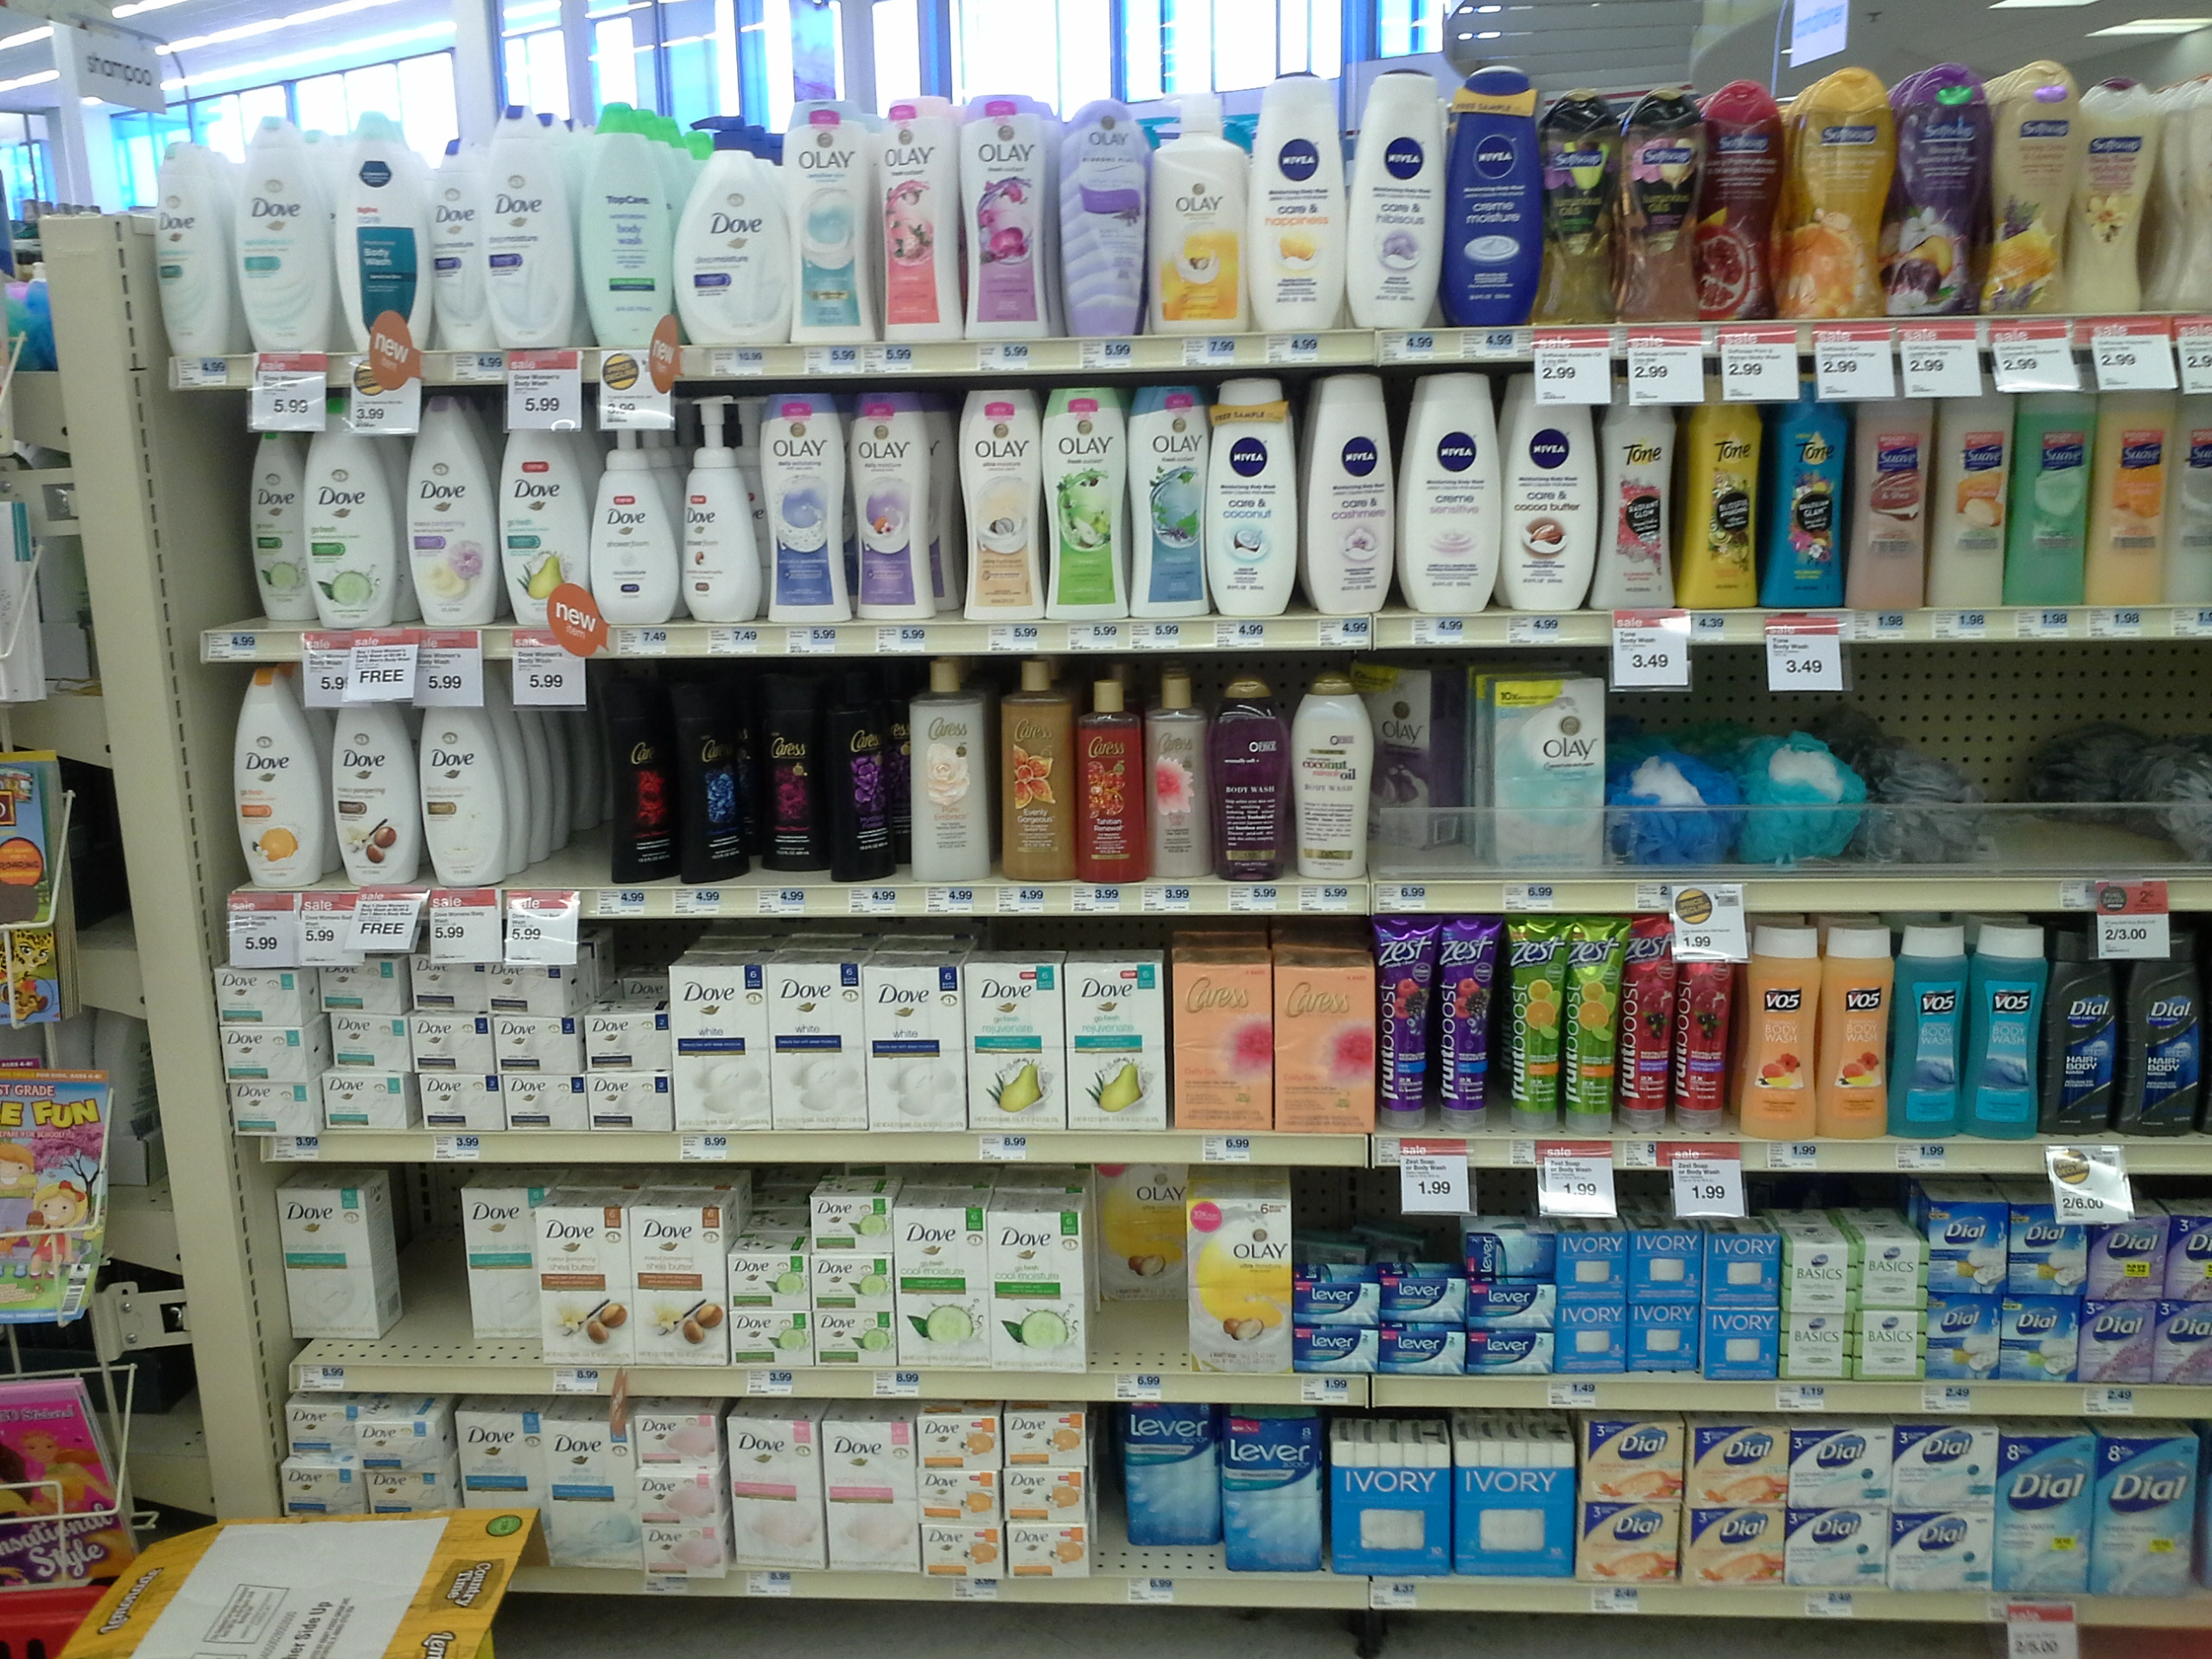Misplacement: (1094, 1164, 1191, 1375)
Out-of-stock: (390, 1168, 463, 1366)
